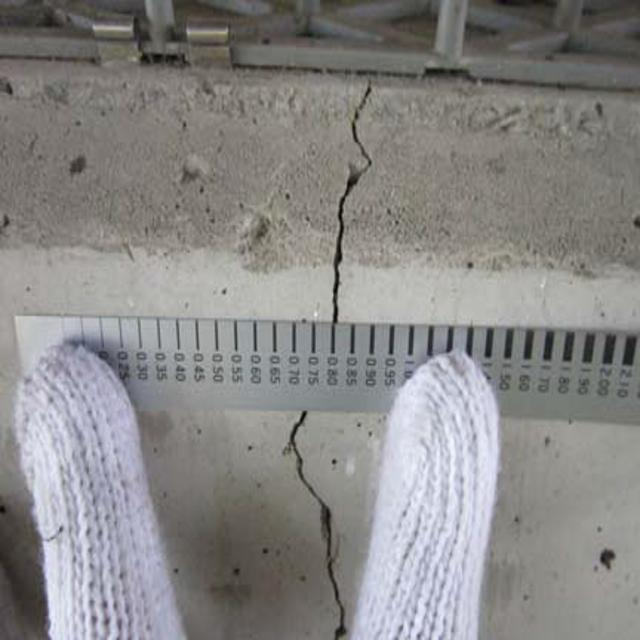crack: (319, 73, 410, 326), (282, 420, 358, 640)
